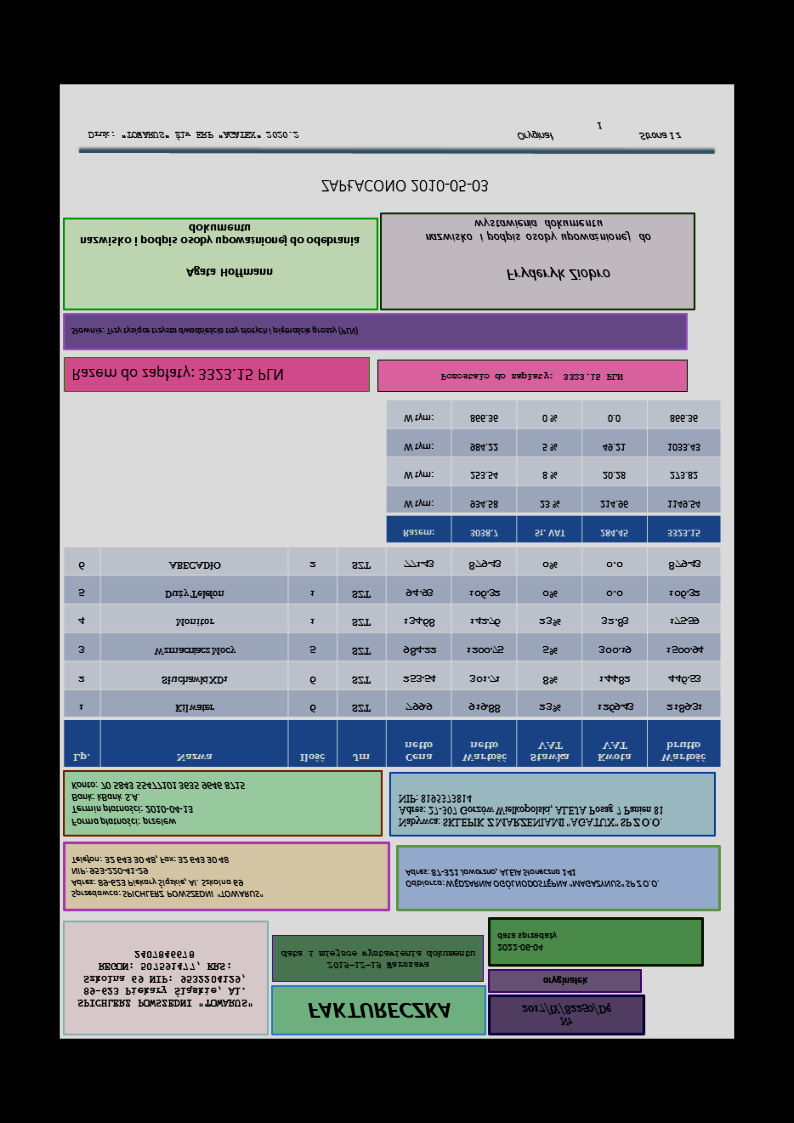Table: (63, 547, 720, 768), (385, 400, 722, 544)
TextBox: (76, 949, 253, 1009), (397, 792, 666, 830), (69, 853, 266, 899), (69, 779, 247, 829), (79, 223, 360, 249), (402, 867, 661, 891), (424, 218, 652, 244), (278, 949, 477, 972), (69, 324, 360, 338), (71, 364, 284, 383), (516, 121, 684, 141), (320, 178, 490, 195), (307, 1001, 451, 1020), (520, 1001, 615, 1028), (440, 370, 624, 383), (87, 129, 299, 140), (504, 264, 612, 284), (496, 930, 558, 953), (184, 264, 274, 279), (542, 973, 589, 988)
